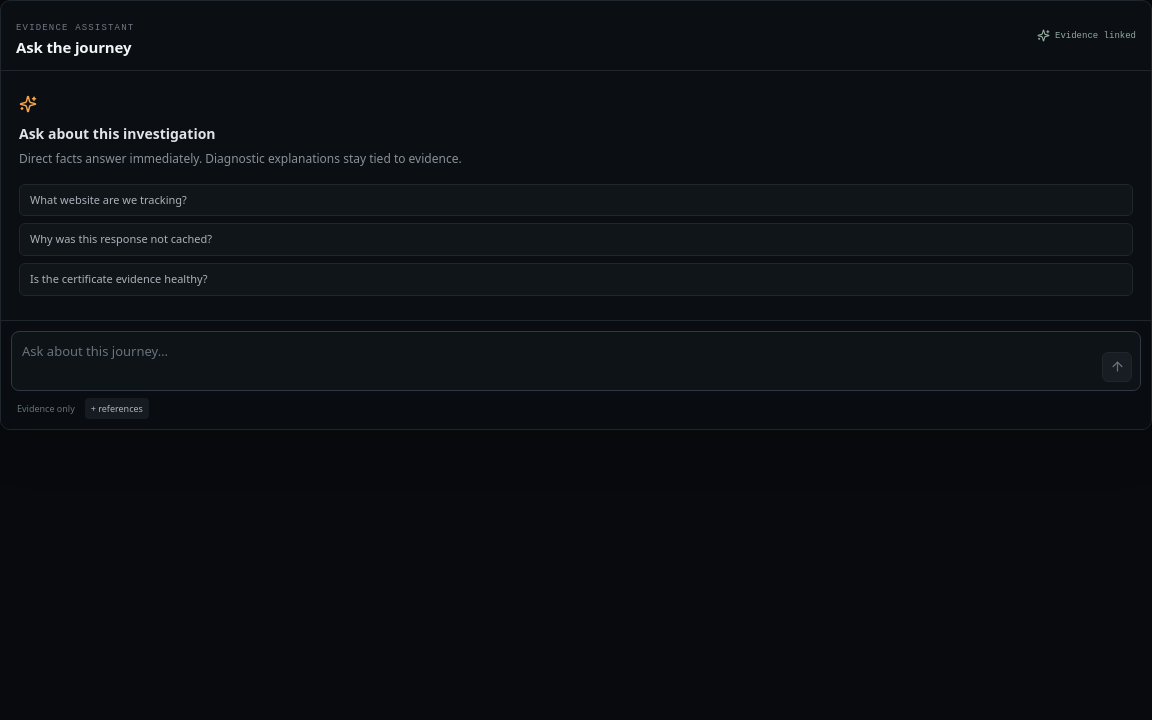
AI investigation panel › keeps a conversation transcript across multiple questions
Step 1. Type "What website is this?" into the text box named "Ask about this investigation" → [558, 361], box [20, 340, 1095, 382]
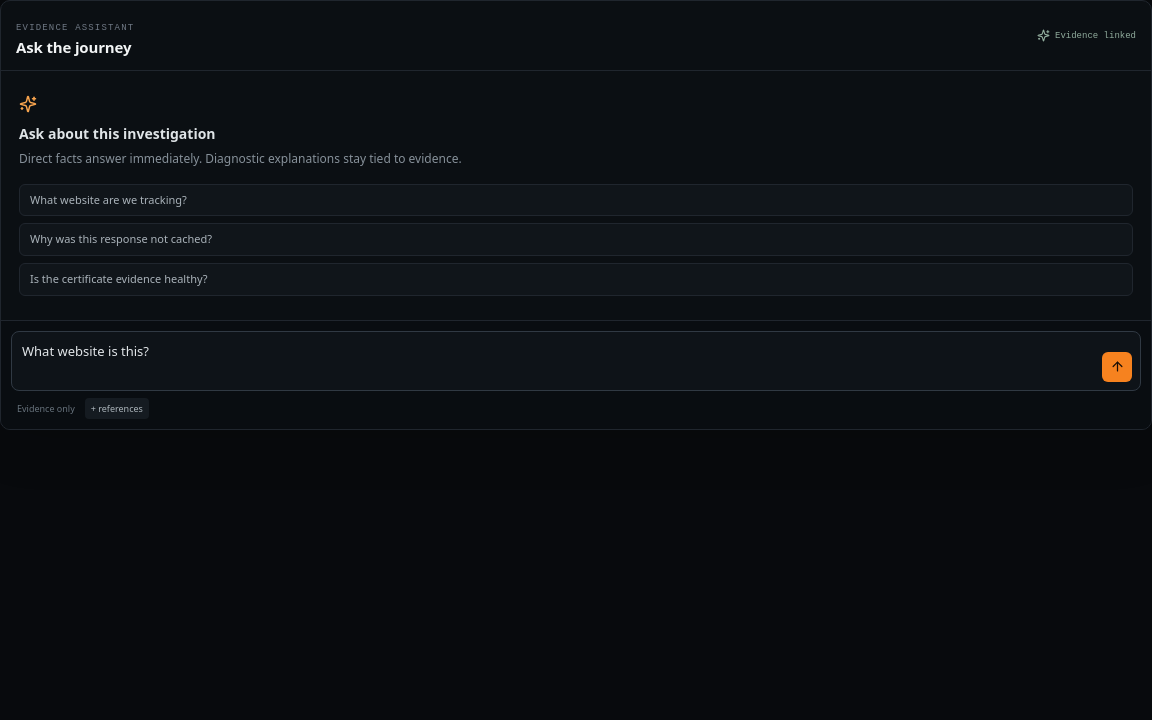
Step 2. Click the button named "Submit question" → [1117, 367], box [1102, 352, 1132, 382]
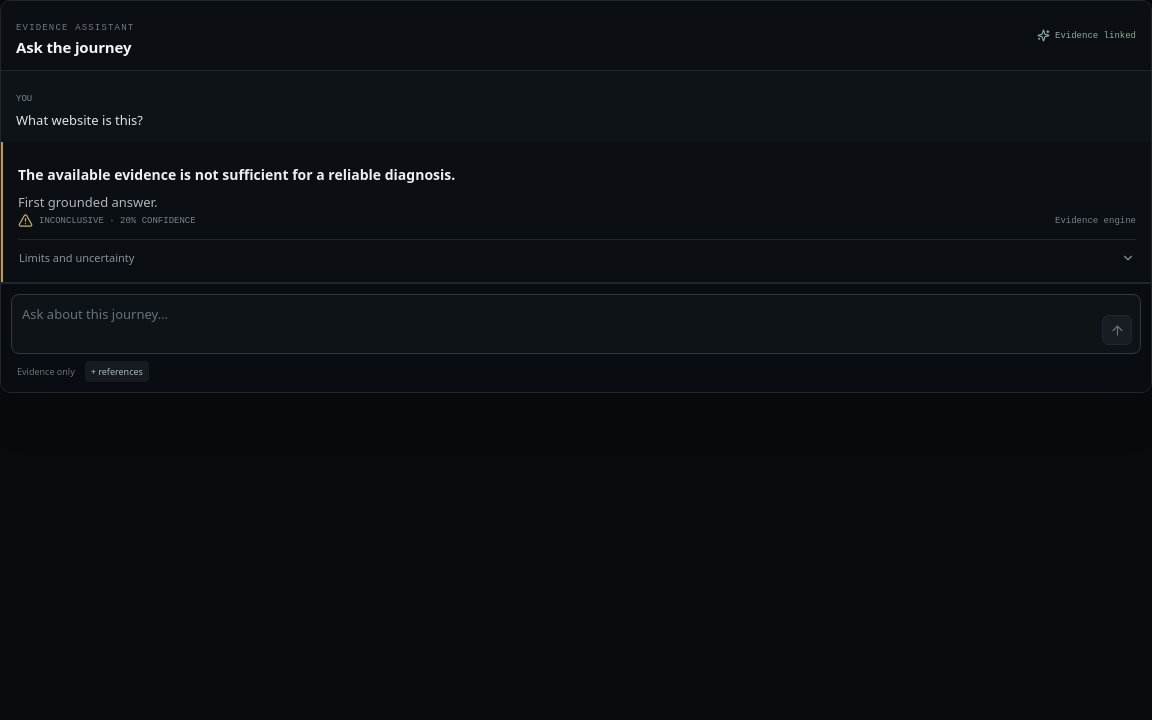
Check: the text "First grounded answer." is shown, box [18, 193, 157, 211]
Step 3. Type "What was cached?" into the text box named "Ask about this investigation" → [558, 324], box [20, 303, 1095, 345]
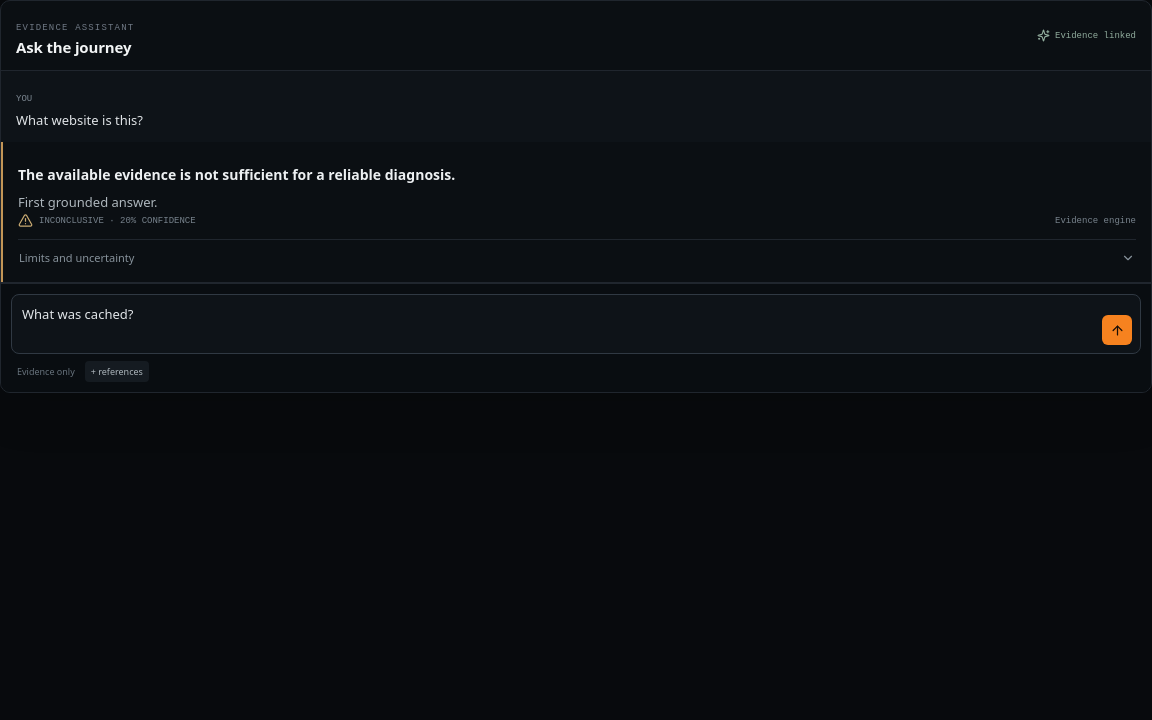
Step 4. Click the button named "Submit question" → [1117, 330], box [1102, 315, 1132, 345]
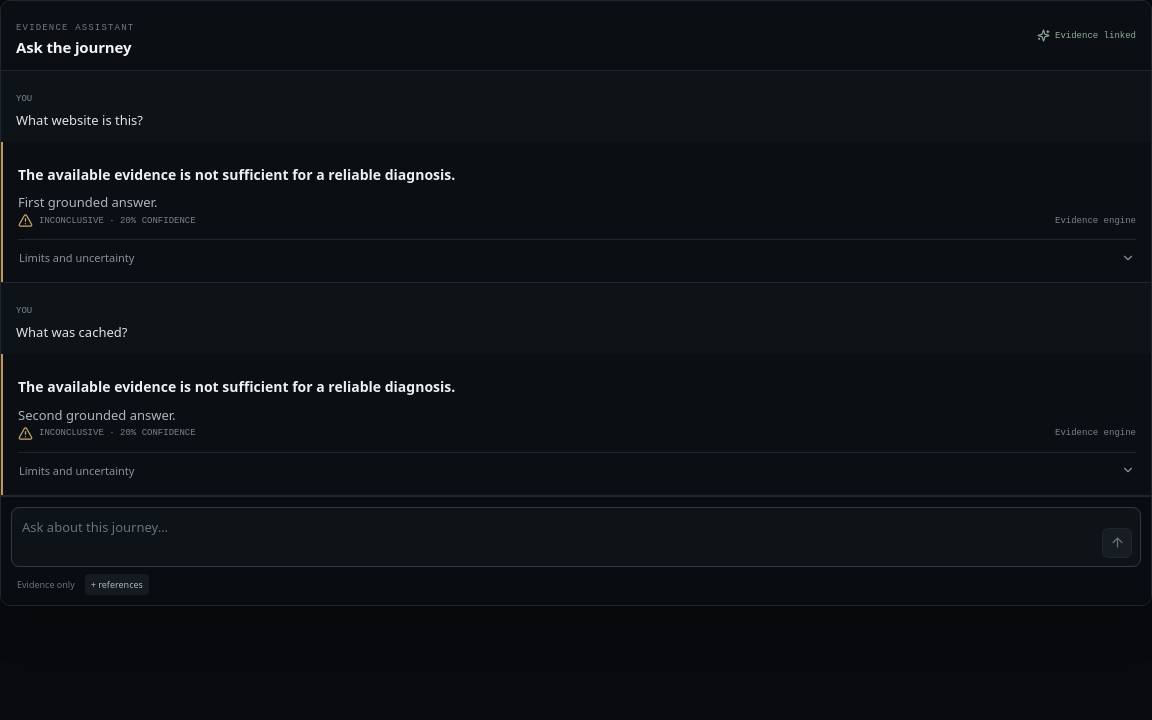
Check: the text "First grounded answer." is shown, box [18, 193, 157, 211]
Check: the text "What website is this?" is shown, box [16, 111, 143, 129]
Check: the text "Second grounded answer." is shown, box [18, 406, 176, 424]
